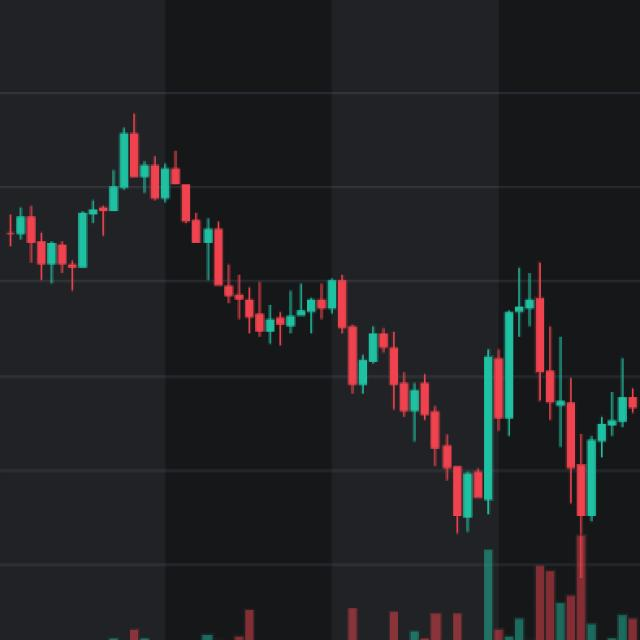Double-Bottom: (376, 255, 637, 529)
Support-breakout: (18, 117, 480, 536)
